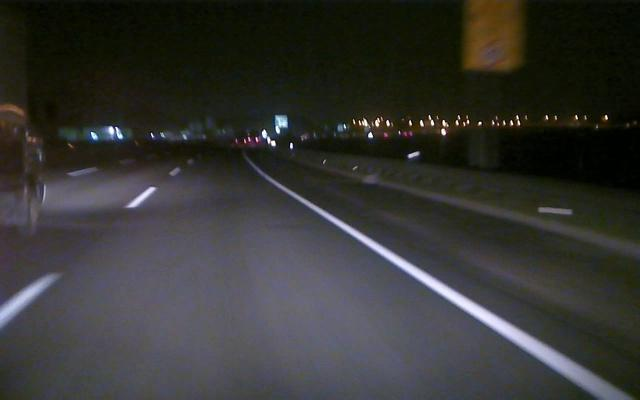lane: (260, 173, 632, 396), (1, 187, 155, 329)
